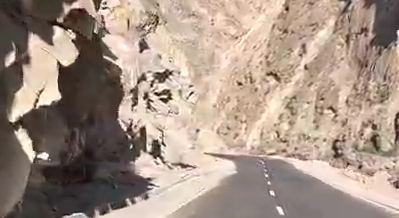right: (209, 128, 330, 209)
